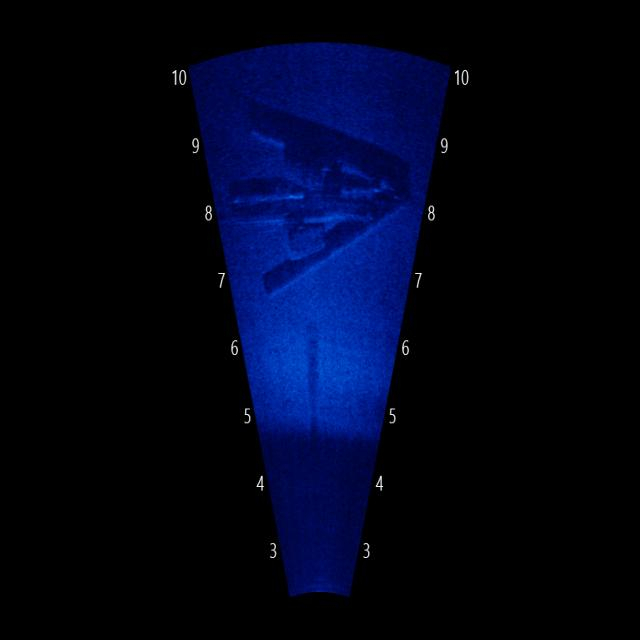triangle: (230, 106, 413, 300)
